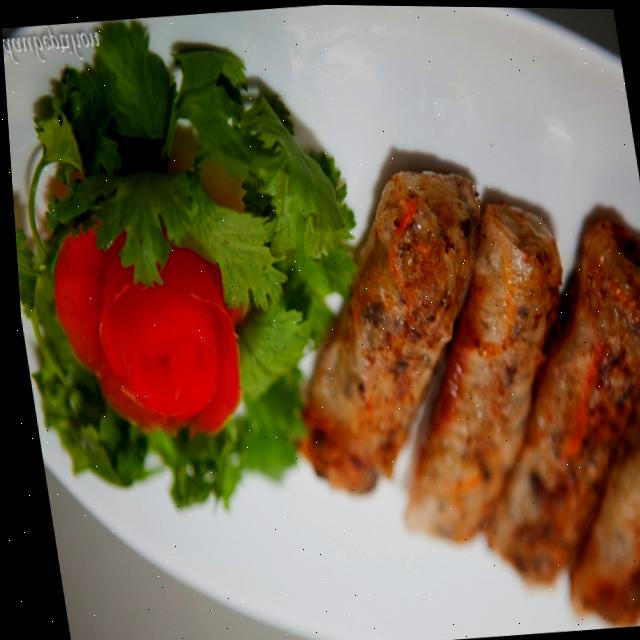炸货点心: (246, 130, 640, 640)
